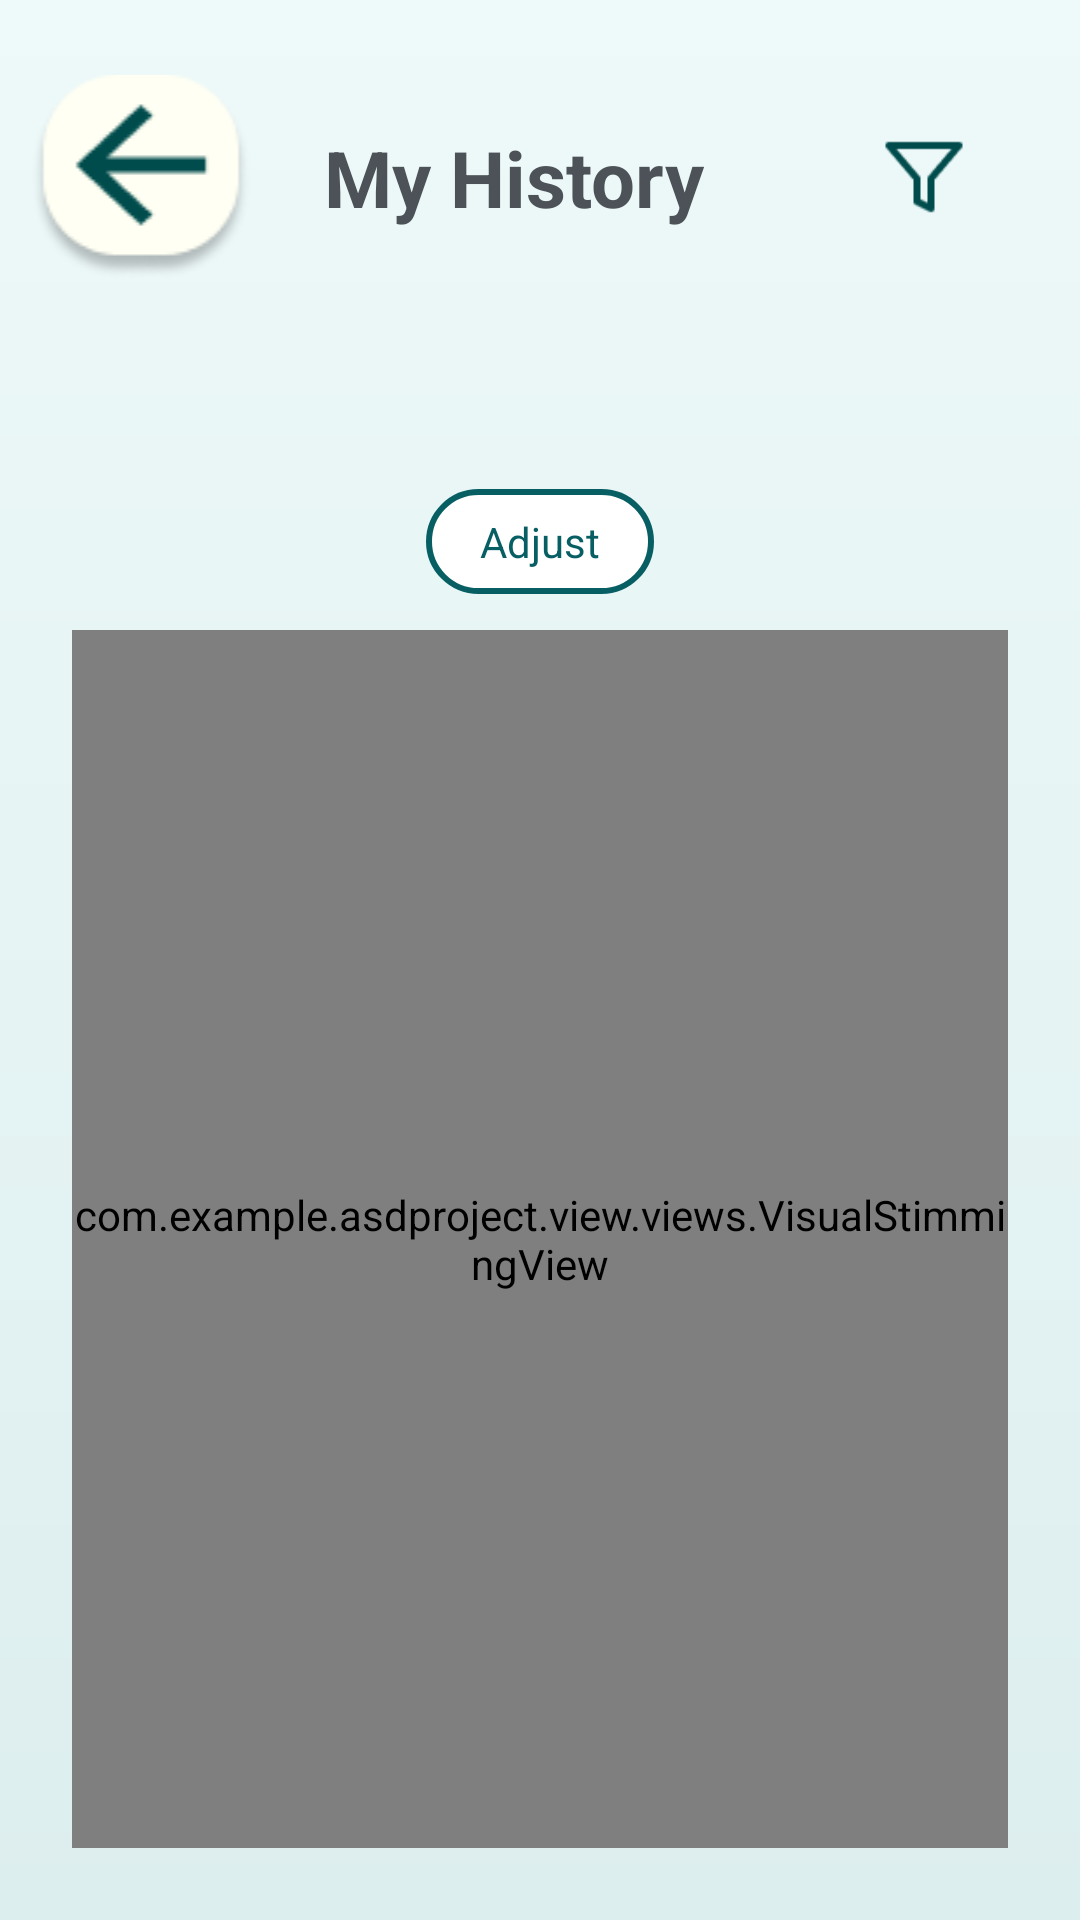

Icon bounding boxes for this 1080×1920 phone screenshot, format (x1, y1, x2, y2):
Back: (37, 75, 245, 274)
Filter history: (885, 141, 963, 213)
